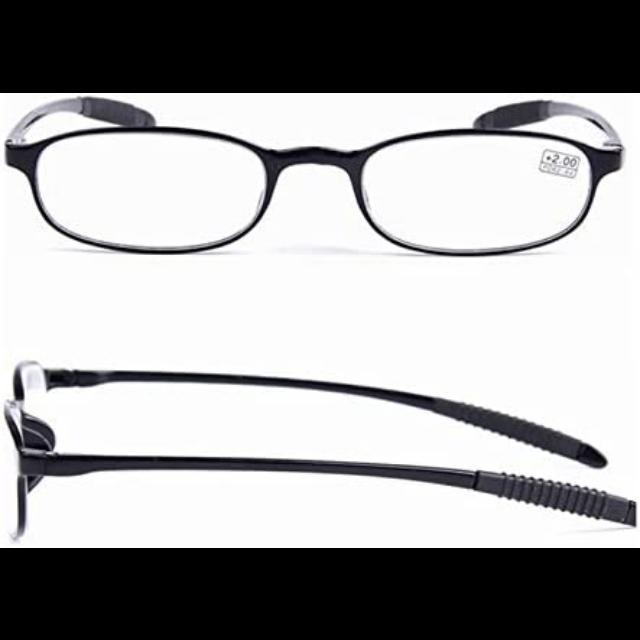glasses: (2, 358, 640, 538), (6, 95, 630, 253)
